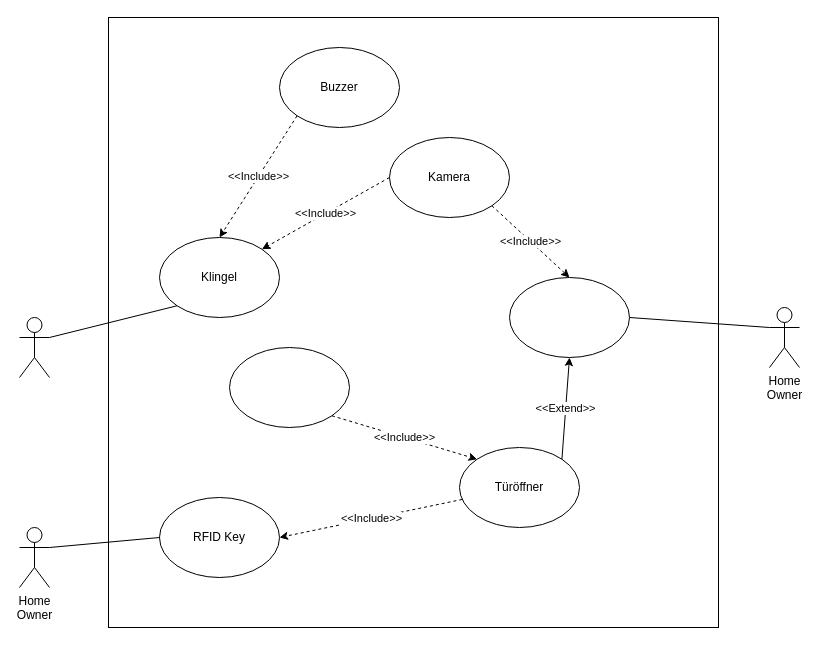
Some shapes in this 819 by 645 pixel diagram are drawn without their labels. Each missing label, with the centre of its shape:
Bewegungssensor: the point at 289,387
Gast: the point at 34,347
Website: the point at 569,317
